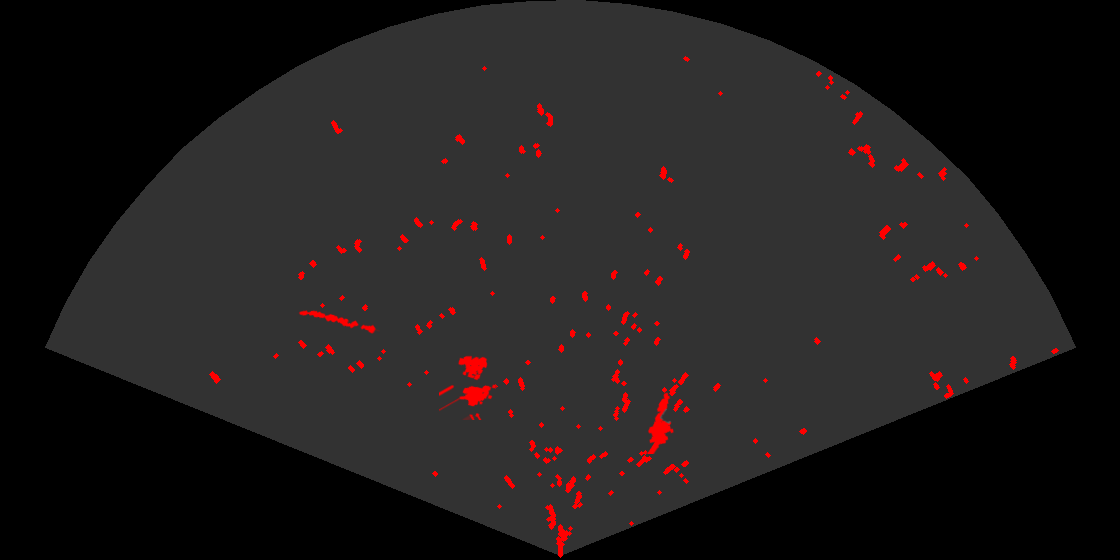cage: (439, 354, 498, 420)
chain: (297, 309, 380, 335)
frogman: (646, 391, 675, 454)
